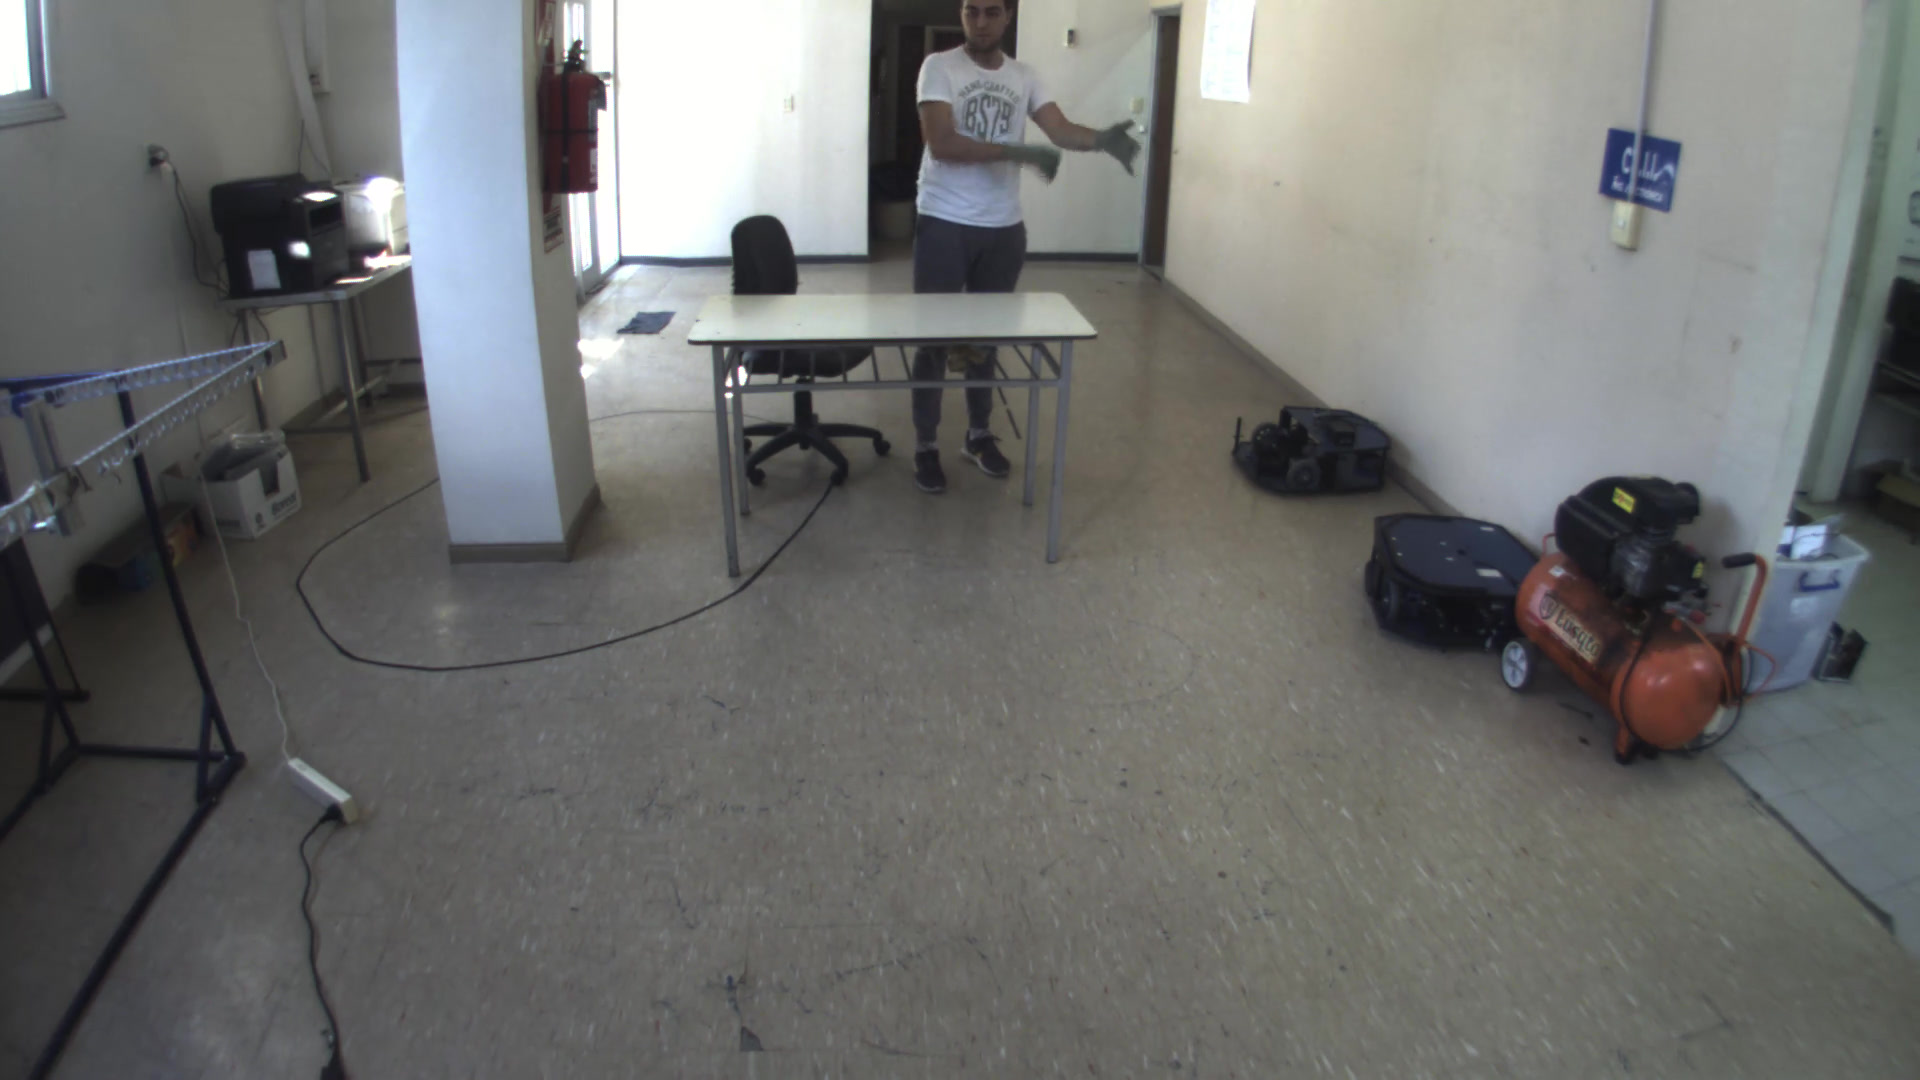hand: (1083, 105, 1145, 179), (1000, 133, 1068, 187)
